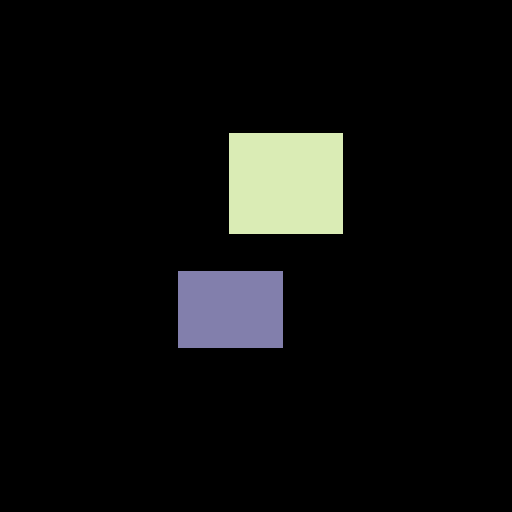rectangle: (229, 133, 342, 233), (178, 271, 282, 347)
